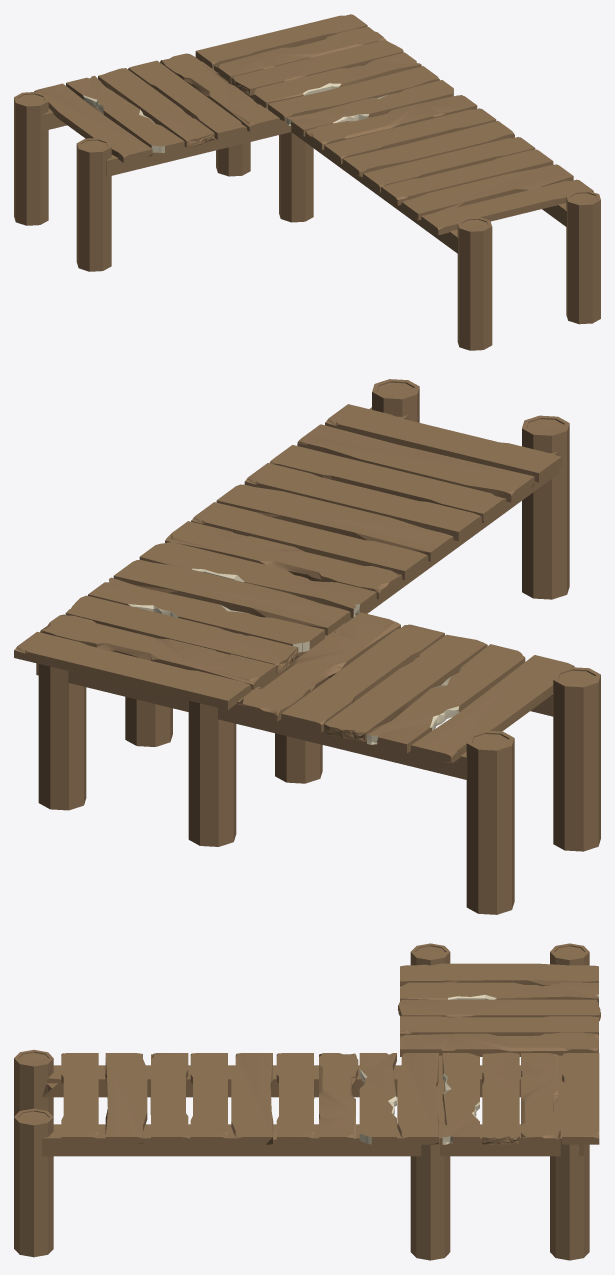
The model's file is Pomost L.fbx.
3 views of the same model, one above another, from view 1: azimuth 30°, elevation 25°; view 2: azimuth 150°, elevation 25°; view 3: azimuth 270°, elevation 25° (orthographic). The views are drawn at different scales.
Parts seen in each view (by area): view 1: Pomost_L; view 2: Pomost_L; view 3: Pomost_L.
Part boxes in pixels (x1,y1,x2,y2): Pomost_L: (14, 14, 600, 350); Pomost_L: (14, 379, 600, 914); Pomost_L: (14, 943, 600, 1260).
Bounding box in the file's own units: 676 × 225 × 885.
